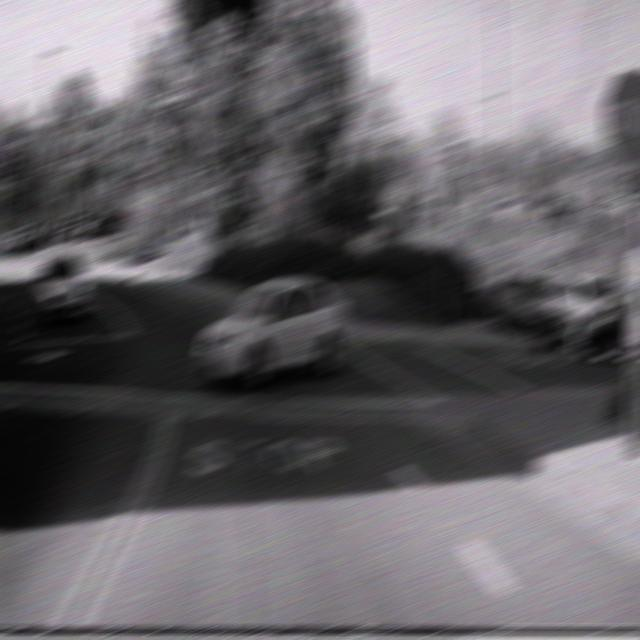pedestrianCrossing: (24, 204, 46, 230)
